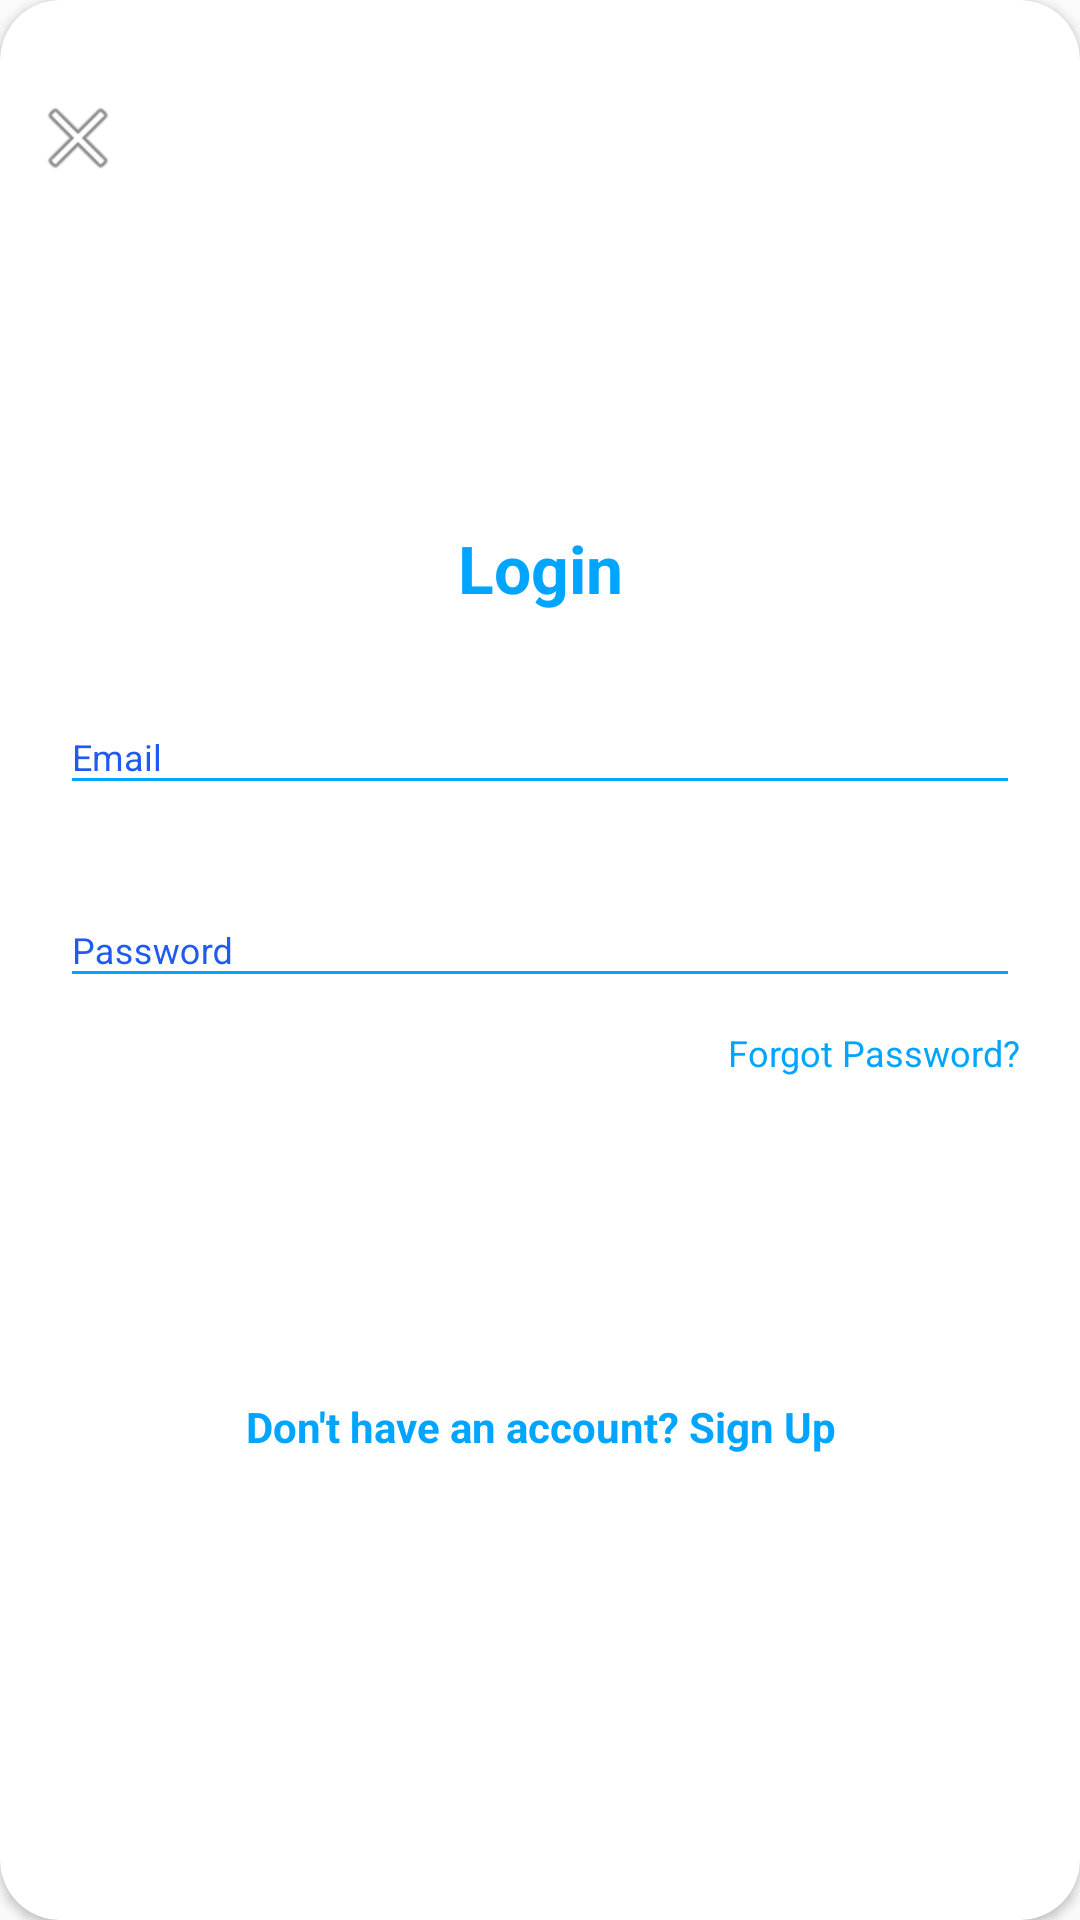

Locate icon controls on the screen. Image size 1080*1920, boxes as [x1=x1, y1=y1, x2=x2, y2=y2].
close clear cancel: [x1=48, y1=108, x2=108, y2=168]
